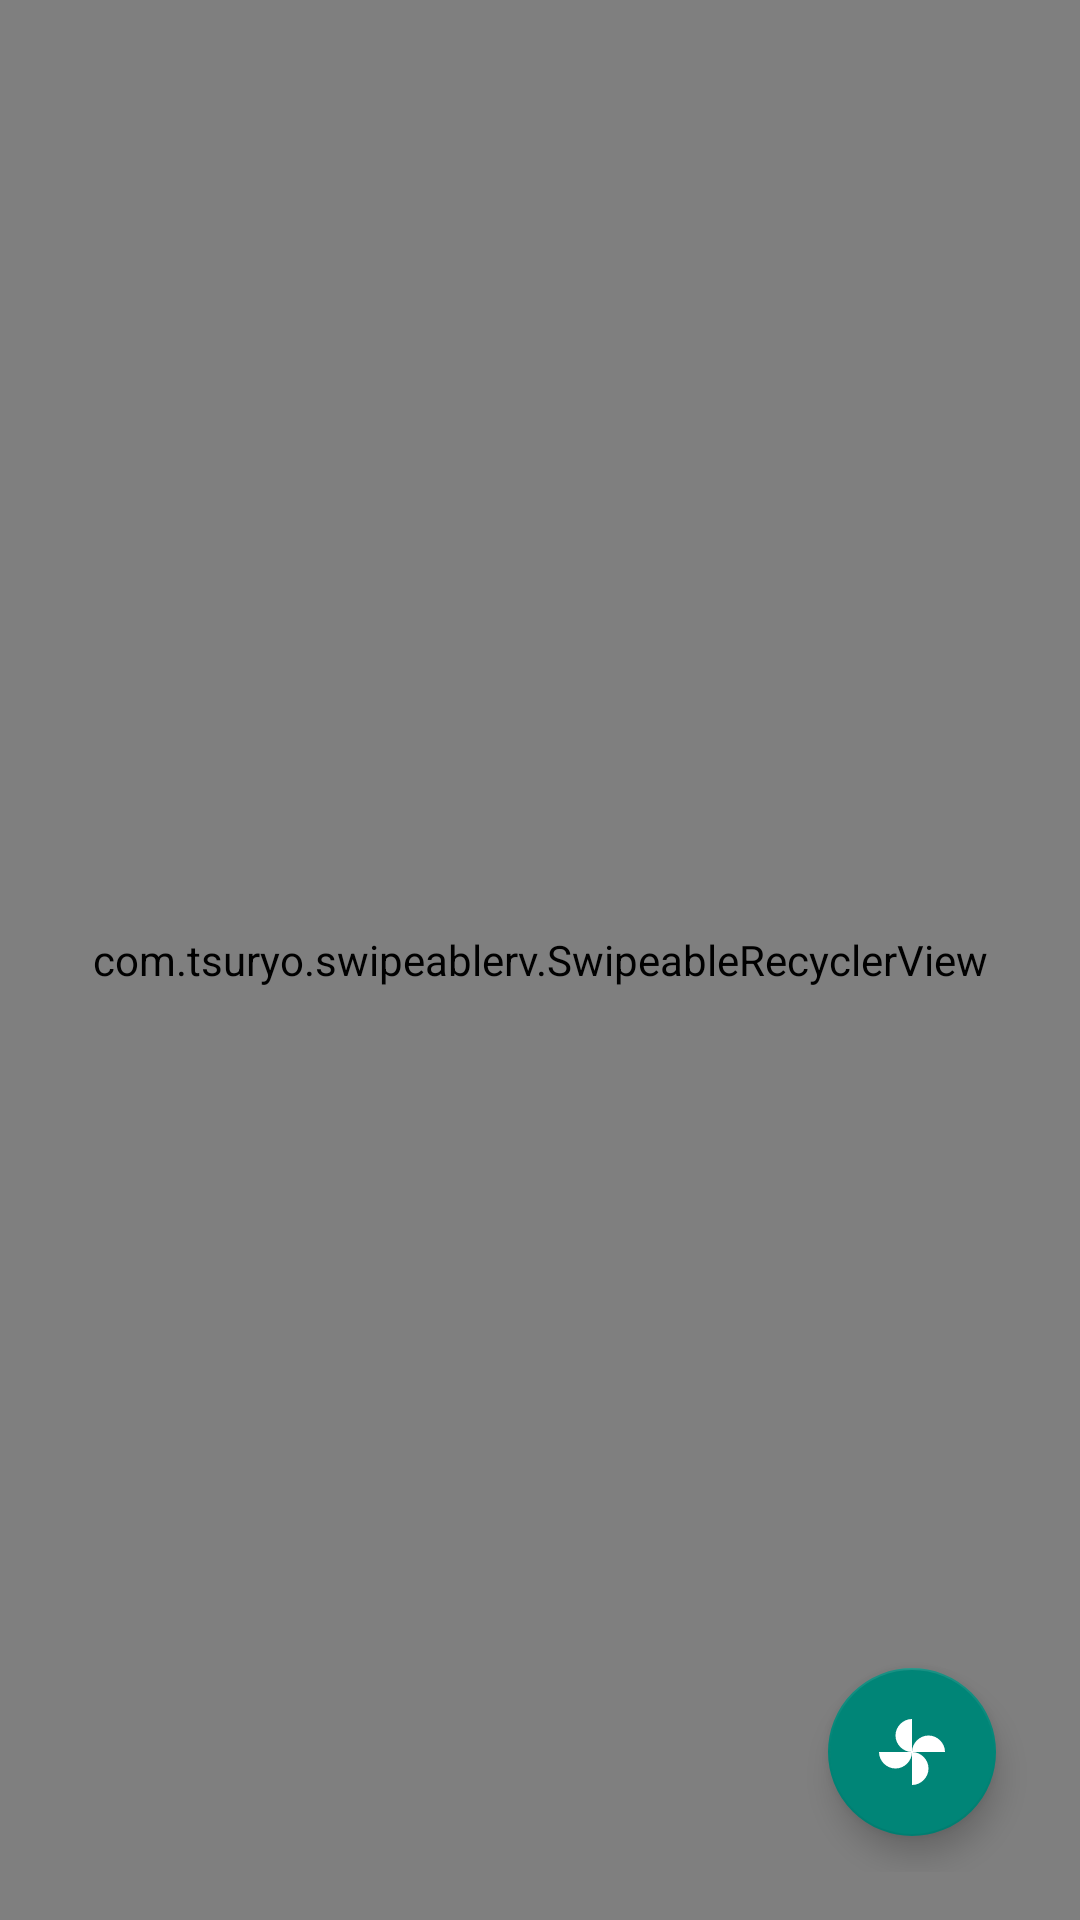

Screen size 1080px×1920px. Icon name, then its center in pixels as point (x, y):
toys: point (912, 1752)
